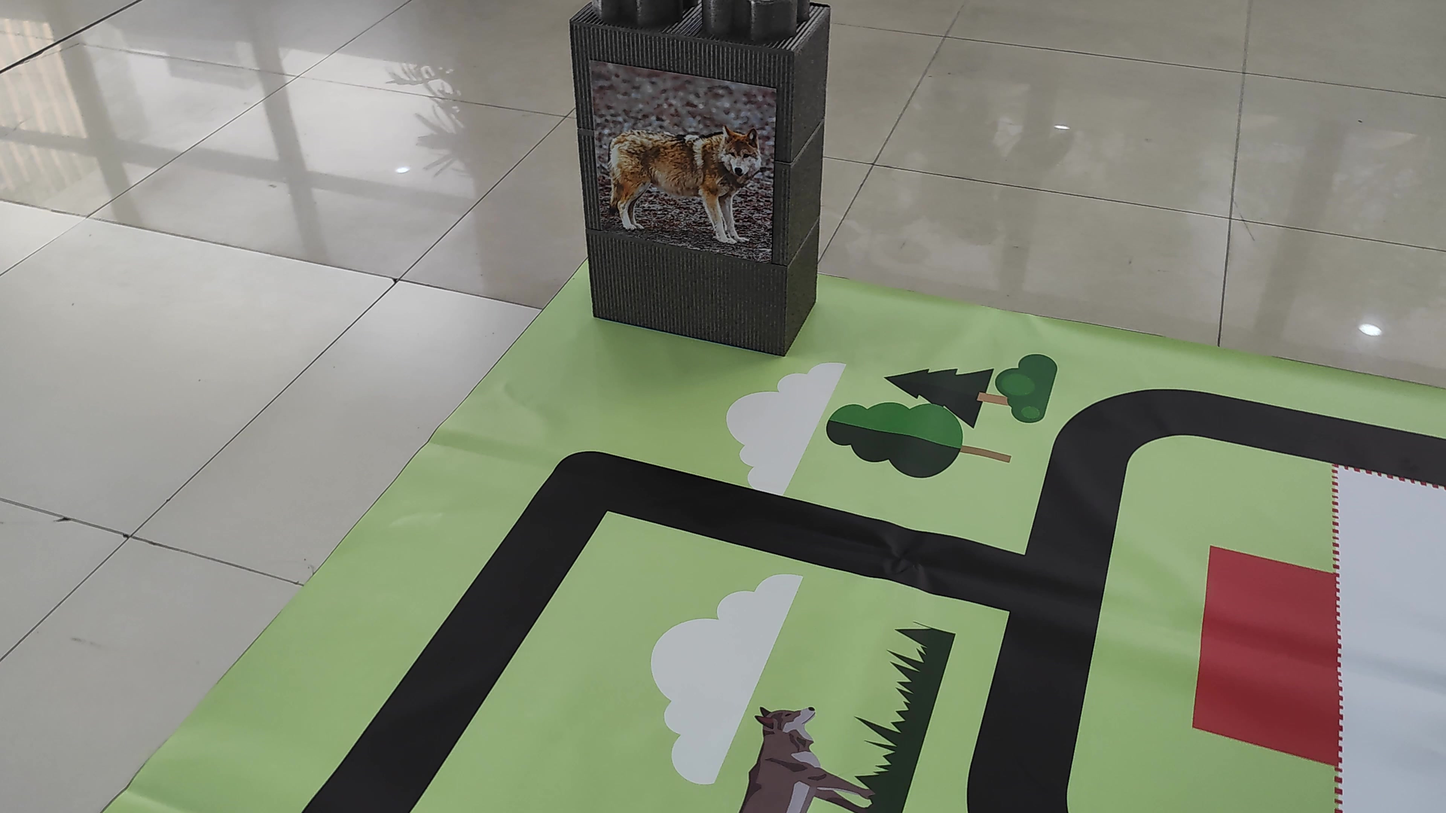wolf: (594, 79, 772, 254)
